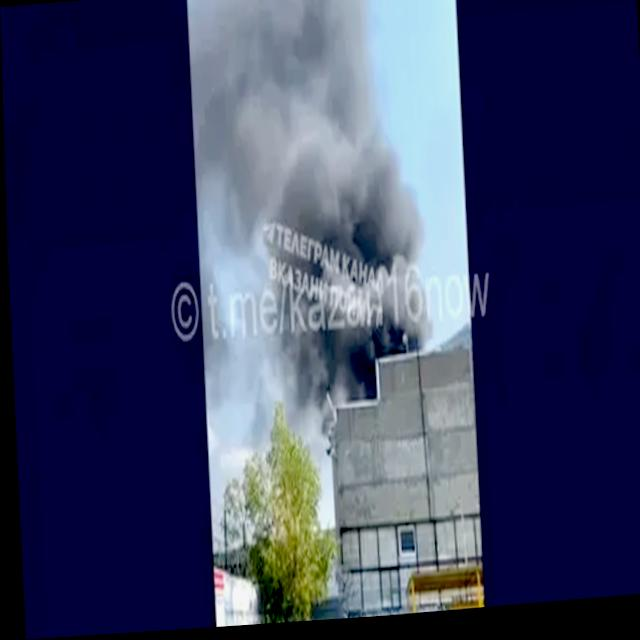no_helmet: (184, 0, 428, 377)
